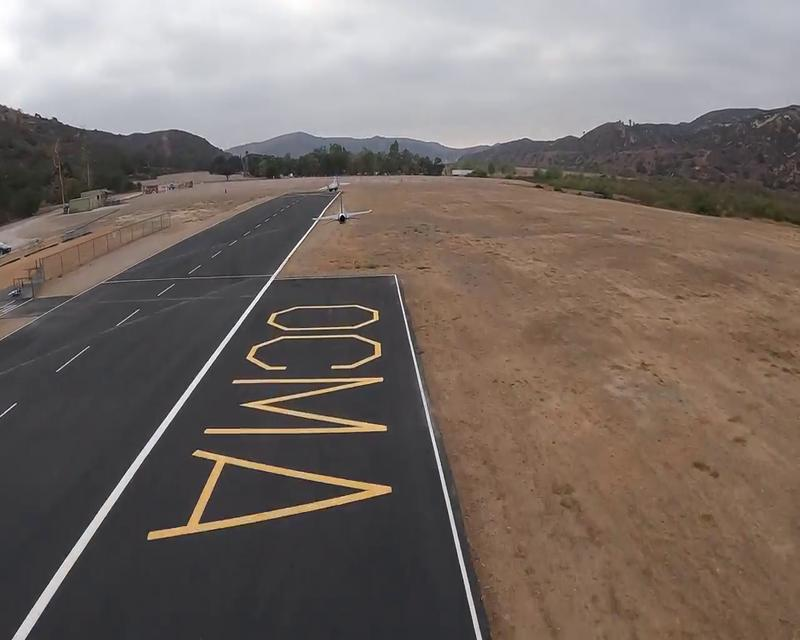UAV: (312, 196, 370, 225)
